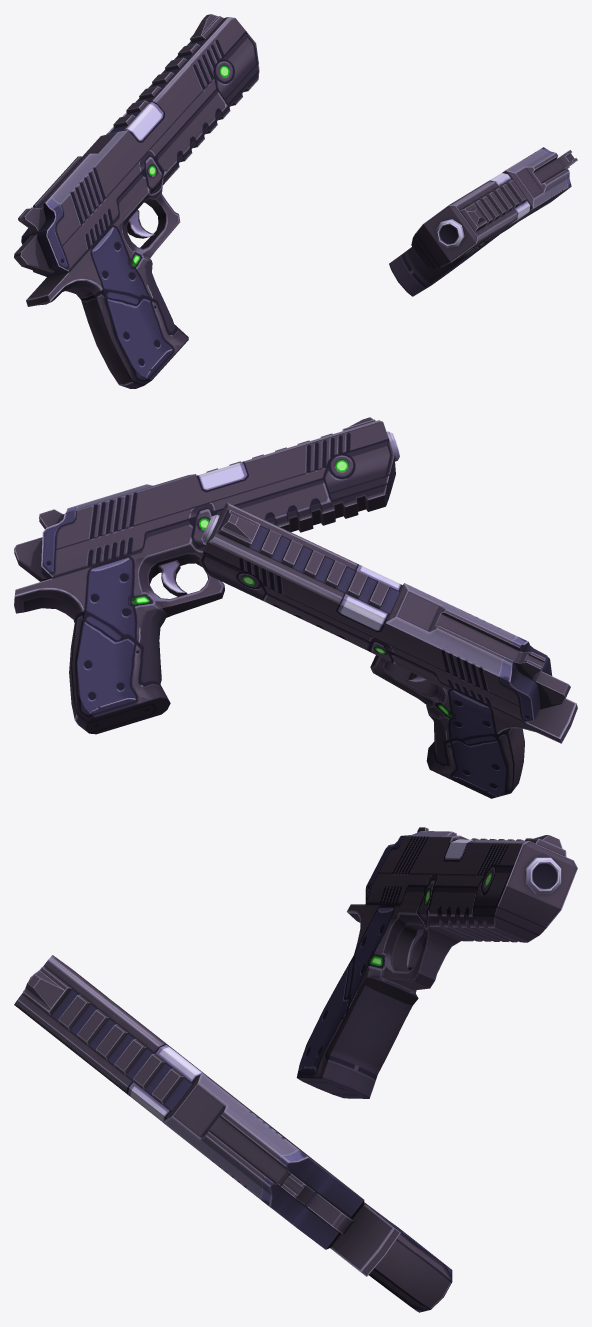
The model's file is Weapon_Pistol_K2_03_3.fbx.
3 renders of one model, top to bottom at view 1: azimuth 30°, elevation 25°; view 2: azimuth 150°, elevation 25°; view 3: azimuth 270°, elevation 25°, orthographic. The views are drawn at different scales.
Visible parts, largest first — view 1: RightPistol, LeftPistol; view 2: LeftPistol, RightPistol; view 3: RightPistol, LeftPistol.
Boxes of the visible parts, <box> form: RightPistol: <box>14,14,259,388</box>; LeftPistol: <box>389,147,577,296</box>; LeftPistol: <box>14,417,399,734</box>; RightPistol: <box>199,502,577,798</box>; RightPistol: <box>296,827,577,1098</box>; LeftPistol: <box>14,955,452,1312</box>.
Bounding box in the file's own units: 0.3821 × 0.1922 × 0.2673.
Materials: 1 (1 with a texture image).
